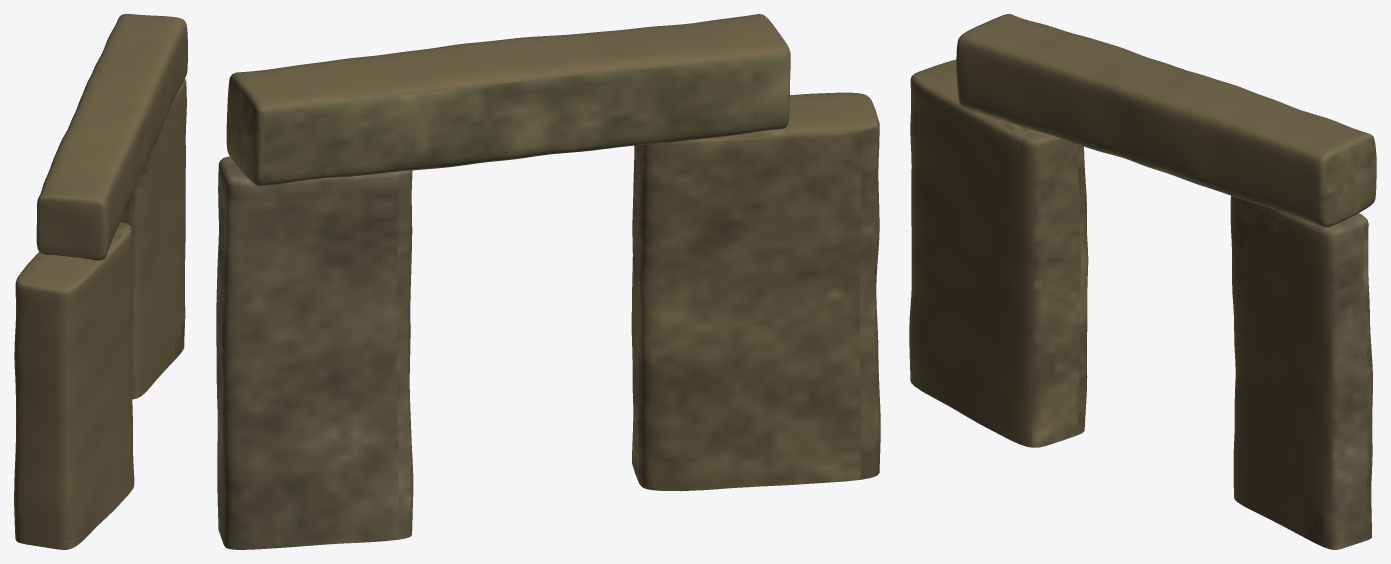
The model's file is ZonHenge05.glb.
3 views of the same model, side by side, from view 1: azimuth 30°, elevation 25°; view 2: azimuth 150°, elevation 25°; view 3: azimuth 270°, elevation 25° (orthographic). The views are drawn at different scales.
Visible parts, largest first — view 1: ZonHenge05; view 2: ZonHenge05; view 3: ZonHenge05.
Boxes of the visible parts, x1,y1,x2,y2 form: ZonHenge05: (14,14,187,549); ZonHenge05: (216,14,880,549); ZonHenge05: (909,14,1376,549).
Bounding box in the file's own units: 3.74 × 3.63 × 3.92.
2 materials, 1 textured.
